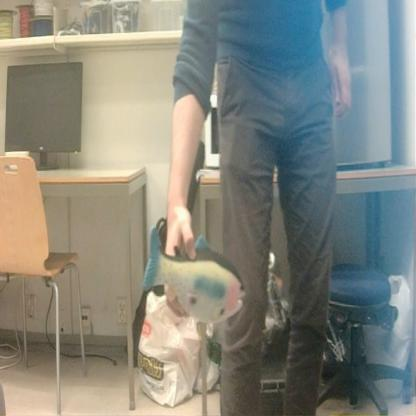rubberfish: (140, 217, 249, 326)
